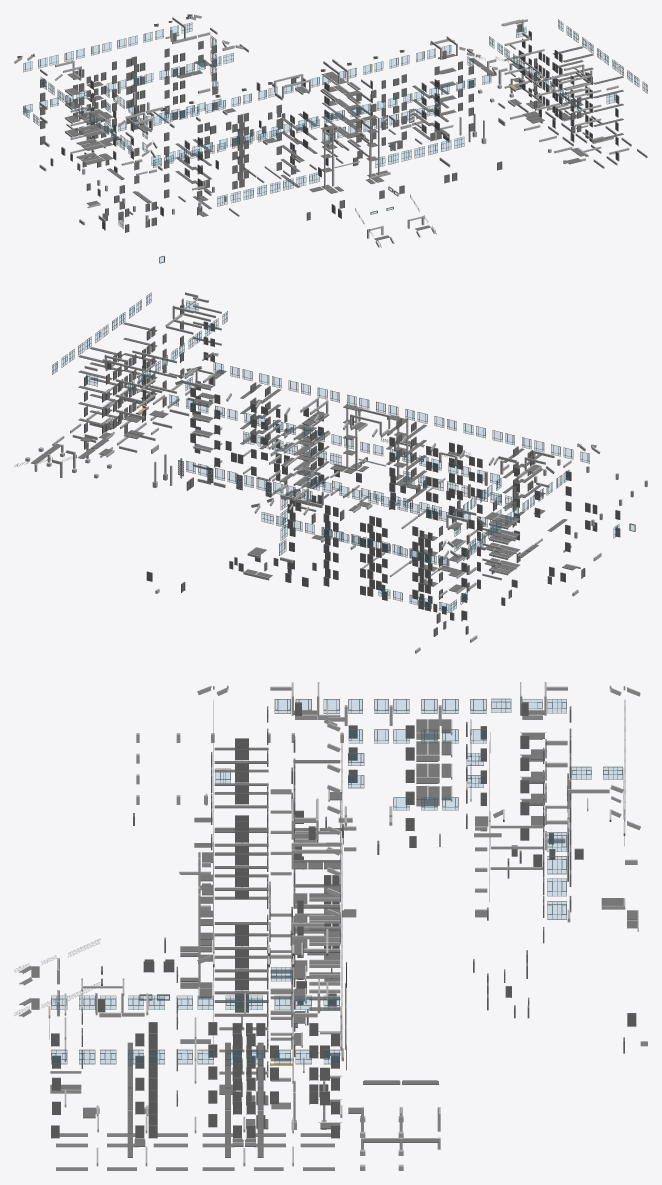
The model's file is teaching-building_11.gltf.
3 renders of one model, top to bottom at view 1: azimuth 30°, elevation 25°; view 2: azimuth 150°, elevation 25°; view 3: azimuth 270°, elevation 25°, orthographic. The views are drawn at different scales.
Size of the model in its own units: 153 by 32.6 by 109.
